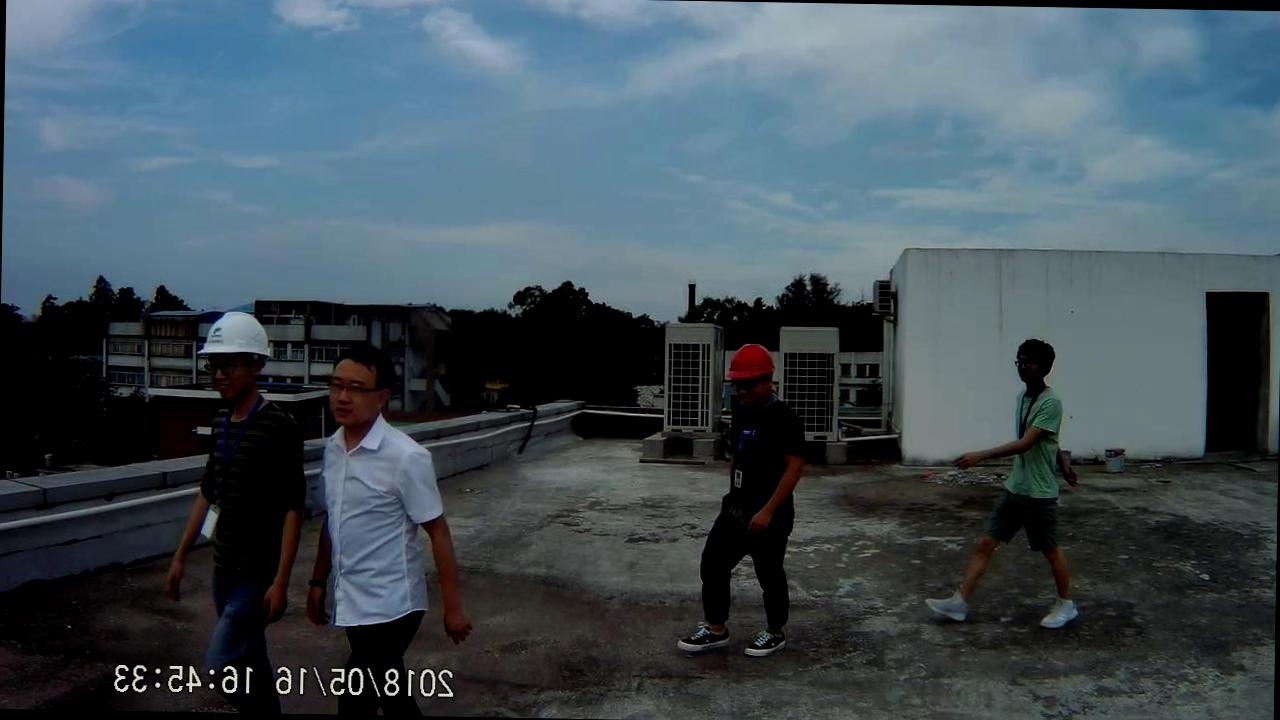helmet: (191, 308, 274, 374), (721, 341, 786, 404)
no_vest: (308, 418, 452, 588), (188, 400, 306, 554), (696, 391, 816, 531), (982, 388, 1072, 510)
person: (302, 336, 468, 657), (919, 329, 1088, 644), (158, 310, 308, 664), (674, 337, 824, 669)
